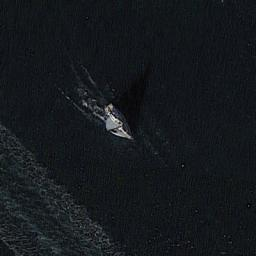boat: (102, 102, 134, 140)
